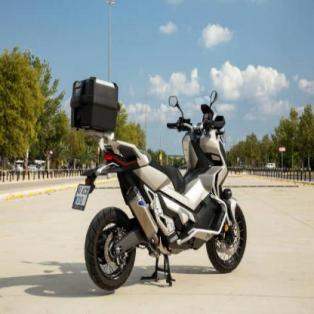Motocicleta: (67, 71, 252, 296)
